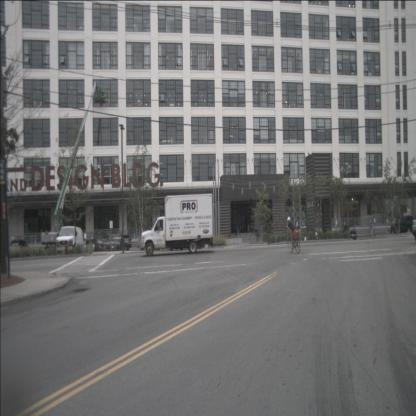vehicle-bicycle: (286, 217, 300, 254)
vehicle-car: (56, 226, 83, 254), (390, 215, 413, 235), (106, 232, 126, 251), (9, 240, 28, 255), (339, 225, 357, 240), (84, 238, 100, 252), (119, 235, 132, 249), (100, 237, 112, 251)
vehicle-truck: (140, 194, 214, 257)
